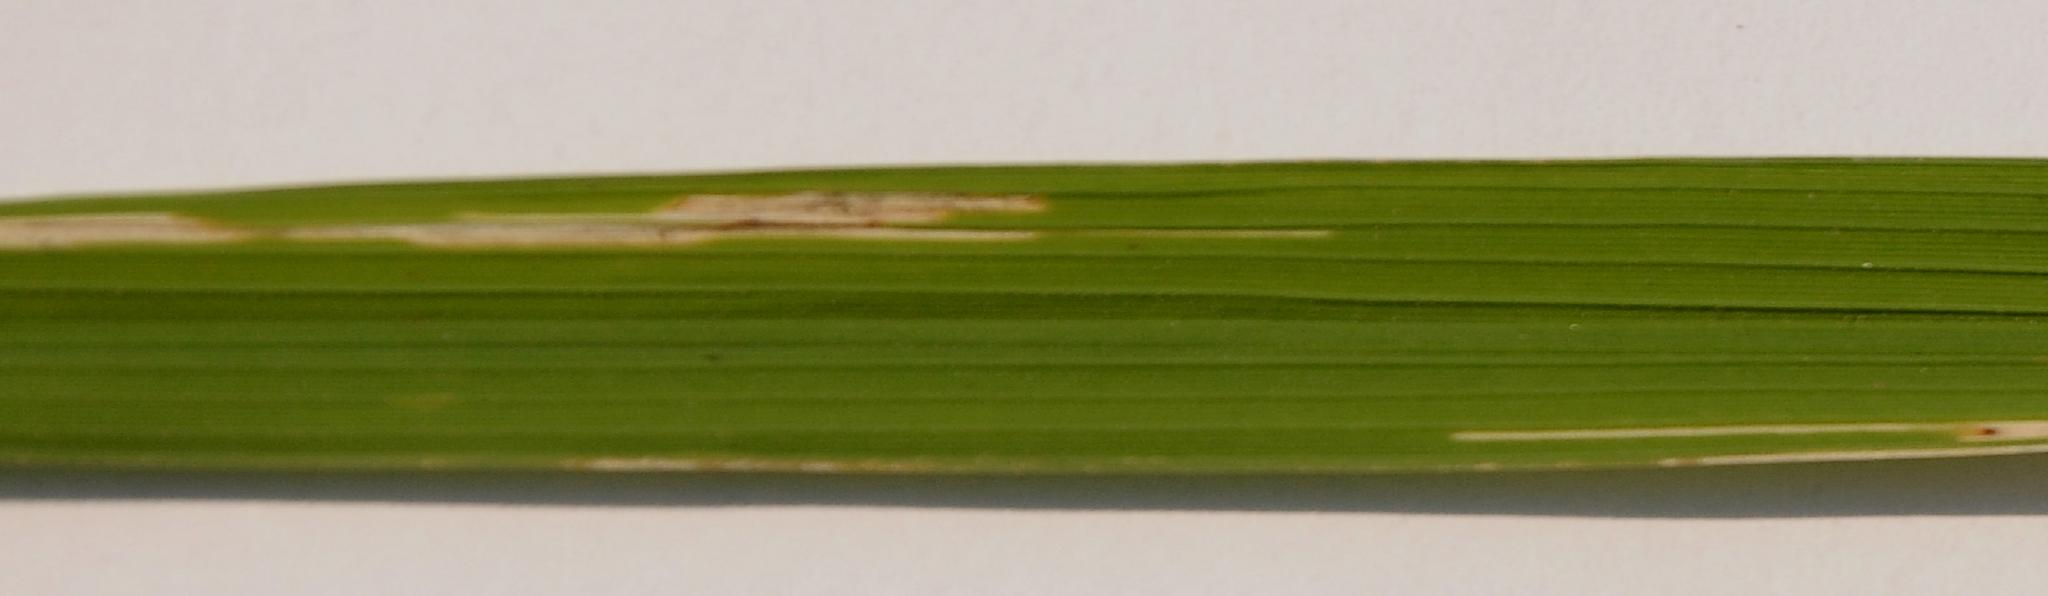2 BacterialBlight: (7, 158, 1448, 281), (1408, 384, 2048, 546)
